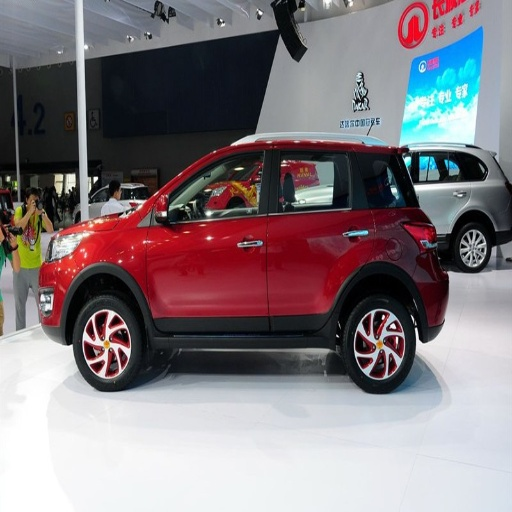back_left_door: (266, 143, 376, 329)
front_left_door: (147, 143, 270, 329)
